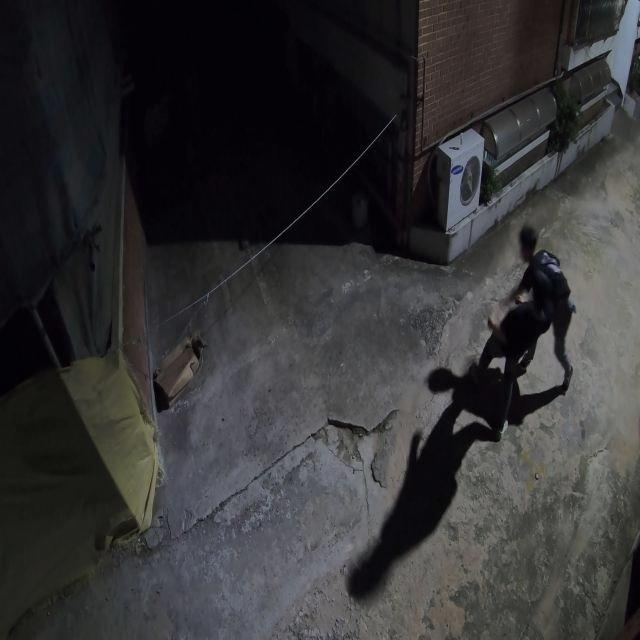fight: (462, 222, 574, 437)
